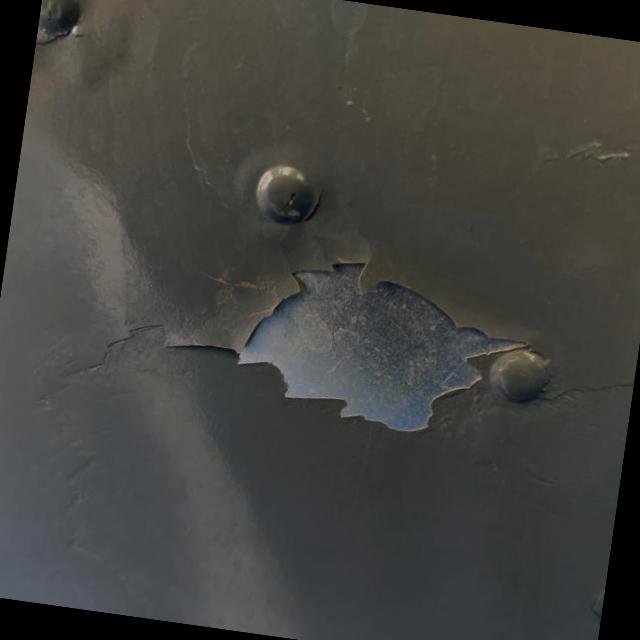paint-off: (129, 210, 560, 472)
